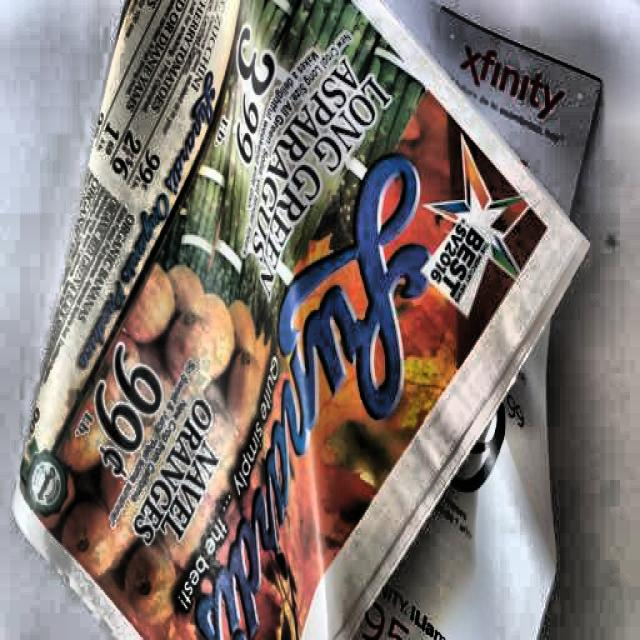paper: (52, 8, 568, 640)
